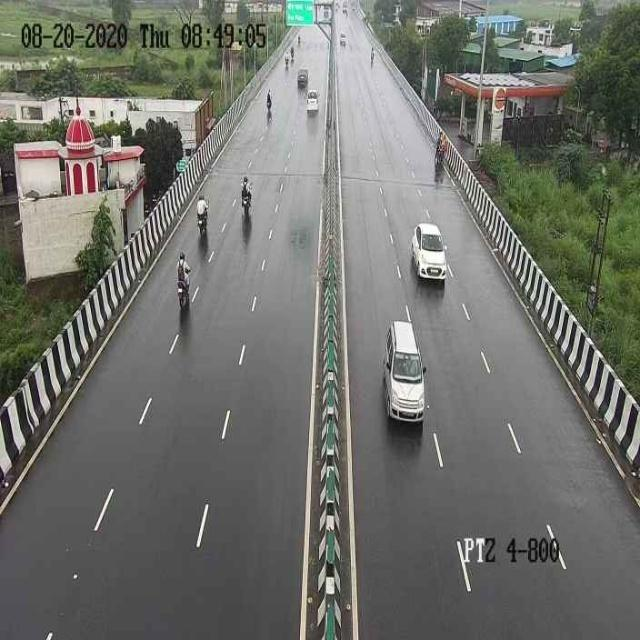car: (380, 310, 431, 434), (407, 215, 450, 288)
